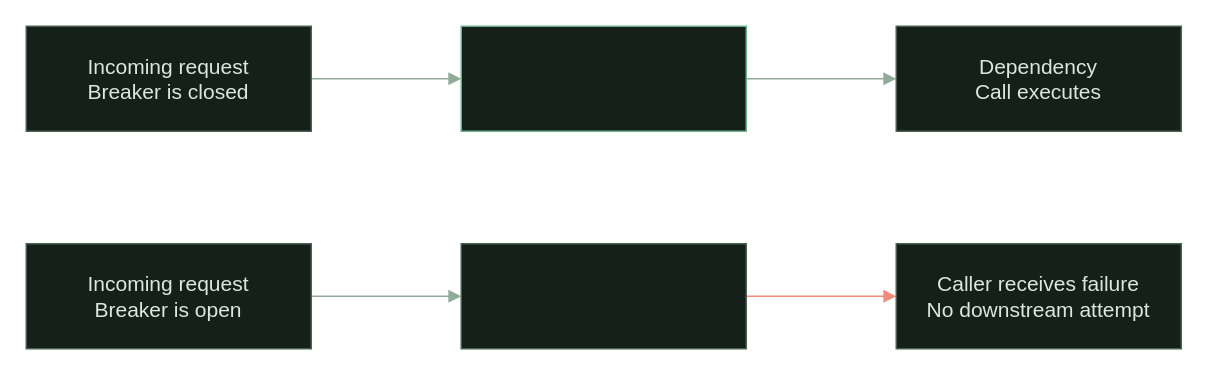
The diagram is 1208 pixels wide and 375 high, and some of its shapes have lost their labels. Each missing label, with the box of its shape:
Allow call Record outcome: (460, 25, 746, 131)
Reject locally Skip dependency call: (460, 242, 746, 349)
